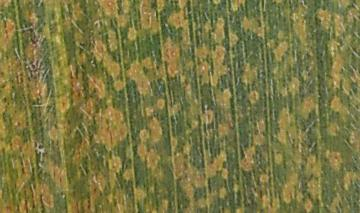tarspot: (36, 142, 46, 151)
